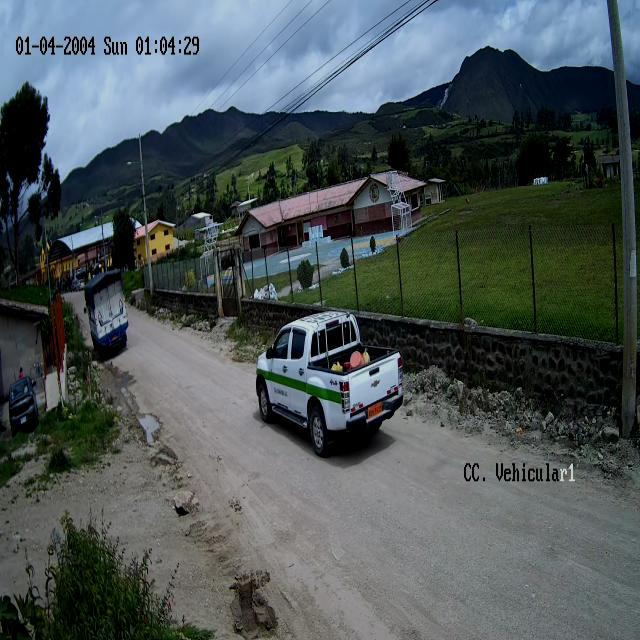CMT: (256, 314, 404, 455)
TRUCK: (84, 271, 130, 360)
